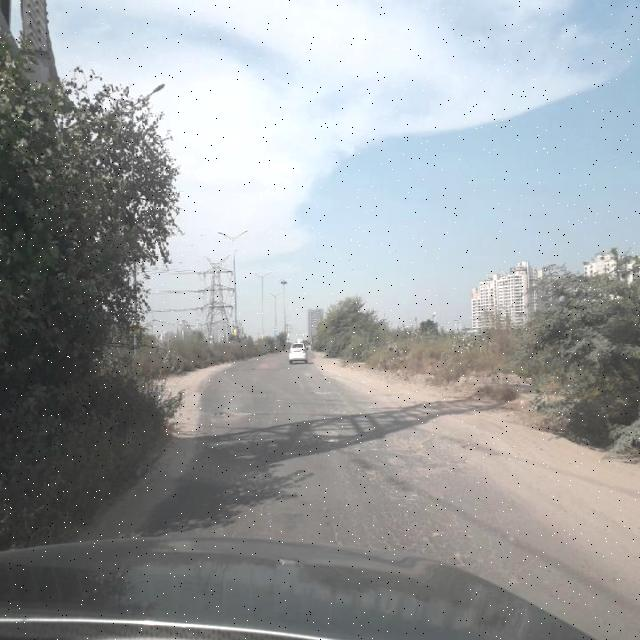D20: (301, 463, 553, 582)
D40: (300, 426, 473, 476), (202, 401, 254, 427), (308, 384, 334, 403)
